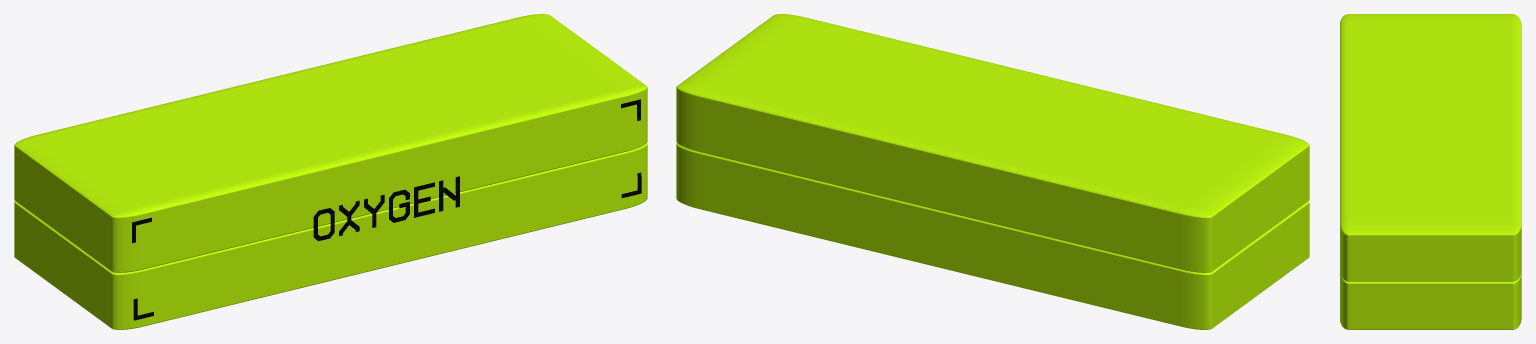
Rendered from OXYGEN.fbx.
3 views of the same model, side by side, from view 1: azimuth 30°, elevation 25°; view 2: azimuth 150°, elevation 25°; view 3: azimuth 270°, elevation 25° (orthographic). The views are drawn at different scales.
Parts seen in each view (by area): view 1: Cube.001, Cube, Text; view 2: Cube.001, Cube; view 3: Cube.001, Cube.
Part boxes in pixels (x1,y1,x2,y2): Cube.001: (14,14,647,272); Cube: (14,143,647,329); Text: (313,176,459,241); Cube.001: (676,14,1309,272); Cube: (676,143,1309,329); Cube.001: (1340,14,1521,281); Cube: (1340,271,1521,329).
Bounding box in the file's own units: 484 × 101 × 169.
